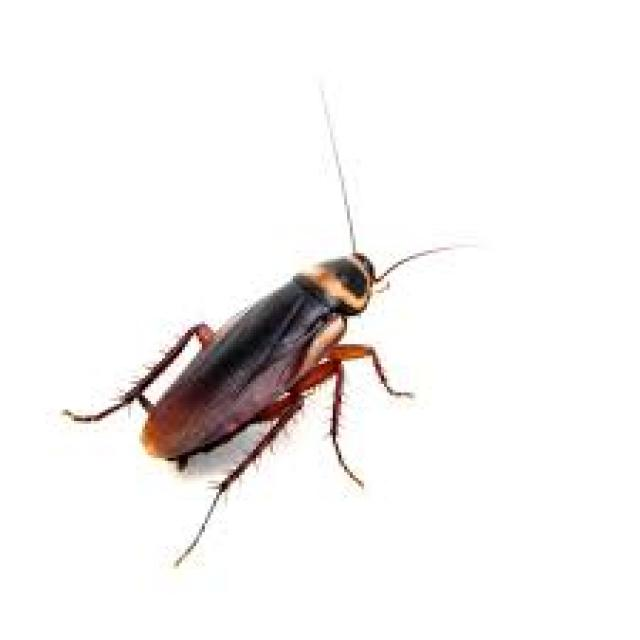Cockroach: (48, 76, 497, 574)
